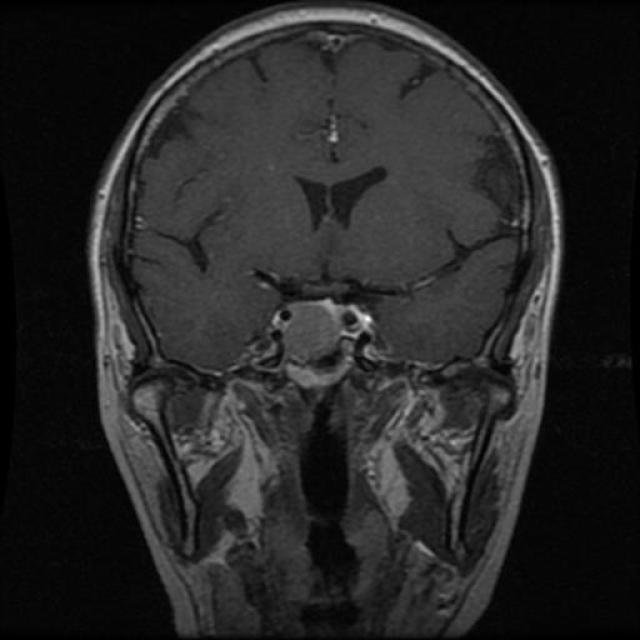pituitary: (274, 294, 381, 370)
